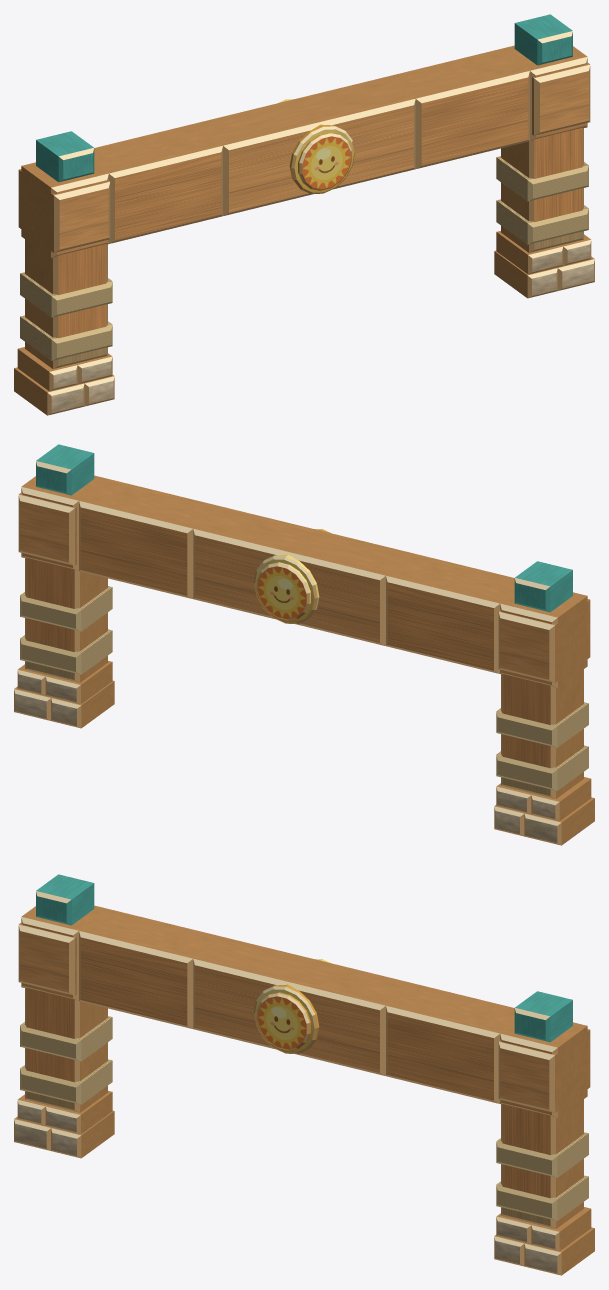
File: start_gantry.glb
The picture shows the model from 3 angles, top to bottom: view 1: azimuth 30°, elevation 25°; view 2: azimuth 150°, elevation 25°; view 3: azimuth 330°, elevation 25°; orthographic projection.
Visible parts, largest first — view 1: arch_v3; view 2: arch_v3; view 3: arch_v3.
Boxes of the visible parts, x1,y1,x2,y2 form: arch_v3: [14, 14, 594, 415]; arch_v3: [14, 444, 594, 845]; arch_v3: [14, 874, 594, 1275].
Bounding box in the file's own units: 79.6 × 34.9 × 11.2.
Materials: 1 (1 with a texture image).
